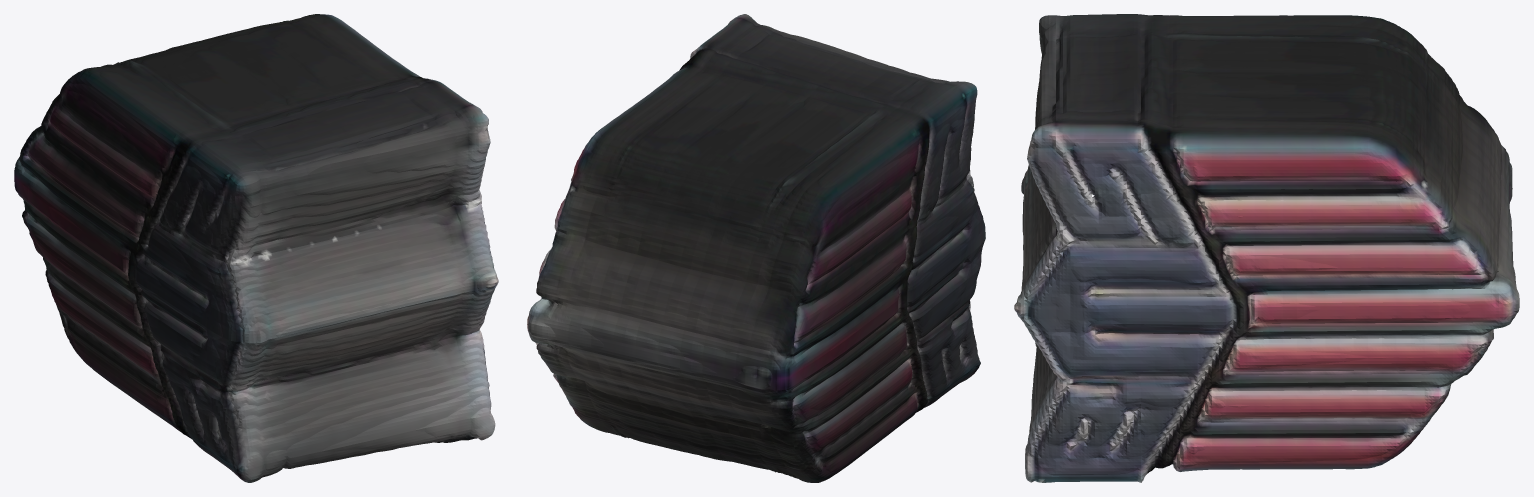
Rendered from bms.glb.
3 views of the same model, side by side, from view 1: azimuth 30°, elevation 25°; view 2: azimuth 150°, elevation 25°; view 3: azimuth 270°, elevation 25° (orthographic). The views are drawn at different scales.
Visible parts, largest first — view 1: world; view 2: world; view 3: world.
Part boxes in pixels (box(x1,y1,x2,y2)): world: box(14, 14, 498, 482); world: box(527, 14, 985, 482); world: box(1014, 14, 1519, 482).
Bounding box in the file's own units: 0.6733 × 0.7574 × 0.9691.
